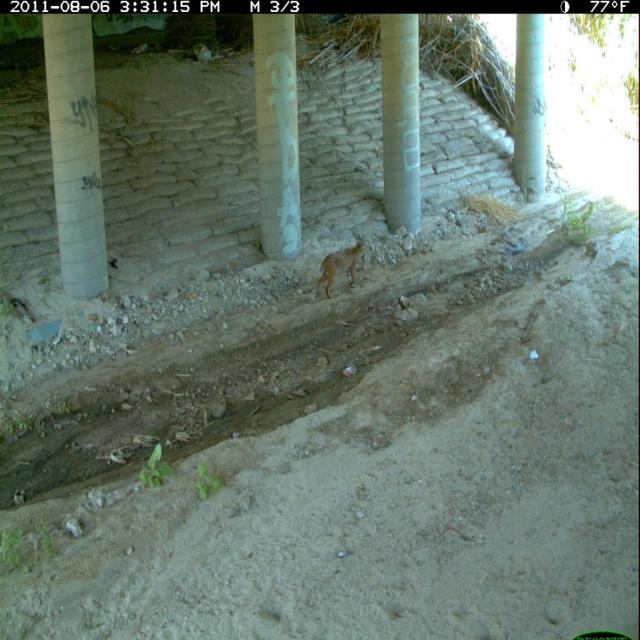bobcat: (312, 234, 371, 304)
